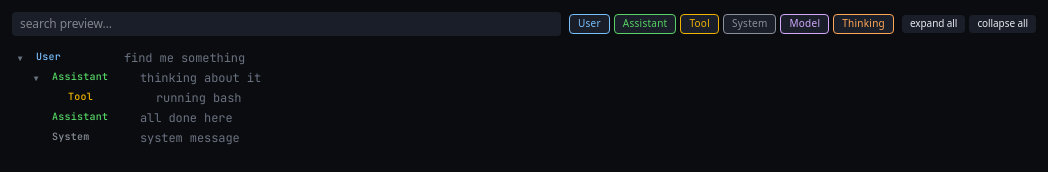
SessionTreeExplorer › 'collapse all' hides every non-leaf node's children
The image size is (1048, 172).
Click the button "collapse all": (1003, 24) left=969, top=15, right=1036, bottom=33
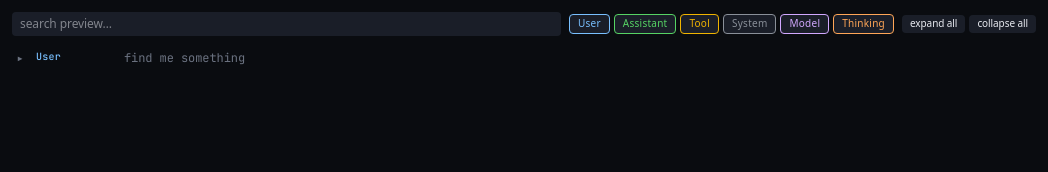
expect the text "running bash" is gone: met
expect the text "thinking about it" is gone: met
expect the text "all done here" is gone: met
